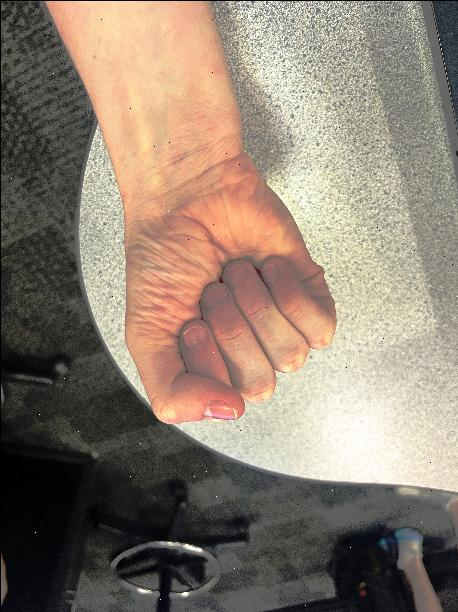Rock: (92, 134, 350, 457)
